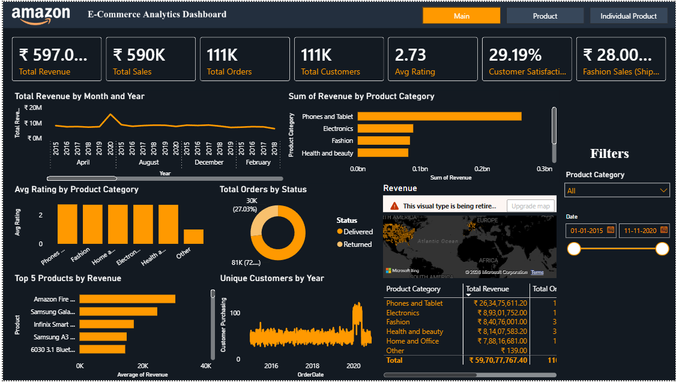

What the dashboard file says about the page in this screenshot:
{"tool":"powerbi","page":{"name":"Main","canvas":[1280,720],"ordinal":0},"visuals":[{"type":"image","box":[0,0,1280.2,719.8],"z":0},{"type":"cardVisual","fields":{"Data":["Orders.Total Revenue","Orders.Total Sales","Orders.Total Orders","Orders.Total Customers","Orders.Avg Rating","Orders.Customer Satisfaction","Orders.Fashion Sales (Shipped from Abroad)"]},"box":[0,50,1280,118.6],"z":1000},{"type":"lineChart","fields":{"Y":["Orders.Total Revenue"],"Category":["DateTable.Month","DateTable.Year"]},"box":[17.1,168.6,521.4,177.1],"z":2000},{"type":"clusteredBarChart","fields":{"Category":["Orders.Product Category"],"Y":["Sum(Orders.Revenue)"]},"box":[538.6,168.6,520,177.1],"z":3000},{"type":"clusteredColumnChart","fields":{"Category":["Orders.Product Category"],"Y":["Orders.Avg Rating"]},"box":[17.5,346.2,390,170],"z":4000},{"type":"donutChart","fields":{"Category":["Orders.Status"],"Y":["Orders.Total Orders"]},"box":[407.5,346.2,311.2,168.8],"z":5000},{"type":"filledMap","fields":{"Category":["Orders.Revenue"]},"box":[718.3,345,340,186.7],"z":6000},{"type":"clusteredBarChart","title":"Top 5 Products by Revenue","fields":{"Category":["Orders.Product"],"Y":["Avg(Orders.Revenue)"]},"box":[16.7,515,391.7,205],"z":7000},{"type":"slicer","fields":{"Values":["Orders.Product Category"]},"box":[1058.6,283.1,221.4,81.4],"z":8000},{"type":"slicer","fields":{"Values":["DateTable.Date"]},"box":[1058.6,364.6,221.4,90],"z":9000},{"type":"textbox","box":[1068.6,236,172.9,42.9],"z":10000},{"type":"tableEx","fields":{"Values":["Orders.Product Category","Orders.Total Revenue","Orders.Total Orders","Orders.Avg Rating","Orders.Return Rate"]},"box":[718.6,531.4,561.4,188.6],"z":11000},{"type":"pageNavigator","box":[798.8,10,468.8,32.5],"z":12000},{"type":"lineChart","title":"Unique Customers by Year","fields":{"Category":["Orders.OrderDate.Variation.Date Hierarchy.Year"],"Y":["Orders.Customer Purchasing"]},"box":[408.3,515,310,205],"z":13000}]}

Visuals, with their boxes in screenshot pixels (x1, y1, x2, y2), scaled from the page's 1280x720 canvas onto the 676x382 screenshot:
image: bbox=[0, 0, 675, 381]
cardVisual - Orders.Total Revenue x Orders.Total Sales: bbox=[0, 27, 675, 89]
lineChart - Orders.Total Revenue x DateTable.Month: bbox=[9, 89, 284, 183]
clusteredBarChart - Orders.Product Category x Sum(Orders.Revenue): bbox=[284, 89, 559, 183]
clusteredColumnChart - Orders.Product Category x Orders.Avg Rating: bbox=[9, 184, 215, 274]
donutChart - Orders.Status x Orders.Total Orders: bbox=[215, 184, 380, 273]
filledMap - Orders.Revenue: bbox=[379, 183, 559, 282]
"Top 5 Products by Revenue" clusteredBarChart: bbox=[9, 273, 216, 381]
slicer - Orders.Product Category: bbox=[559, 150, 675, 193]
slicer - DateTable.Date: bbox=[559, 193, 675, 241]
textbox: bbox=[564, 125, 656, 148]
tableEx - Orders.Product Category x Orders.Total Revenue: bbox=[380, 282, 675, 381]
pageNavigator: bbox=[422, 5, 669, 23]
"Unique Customers by Year" lineChart: bbox=[216, 273, 379, 381]
